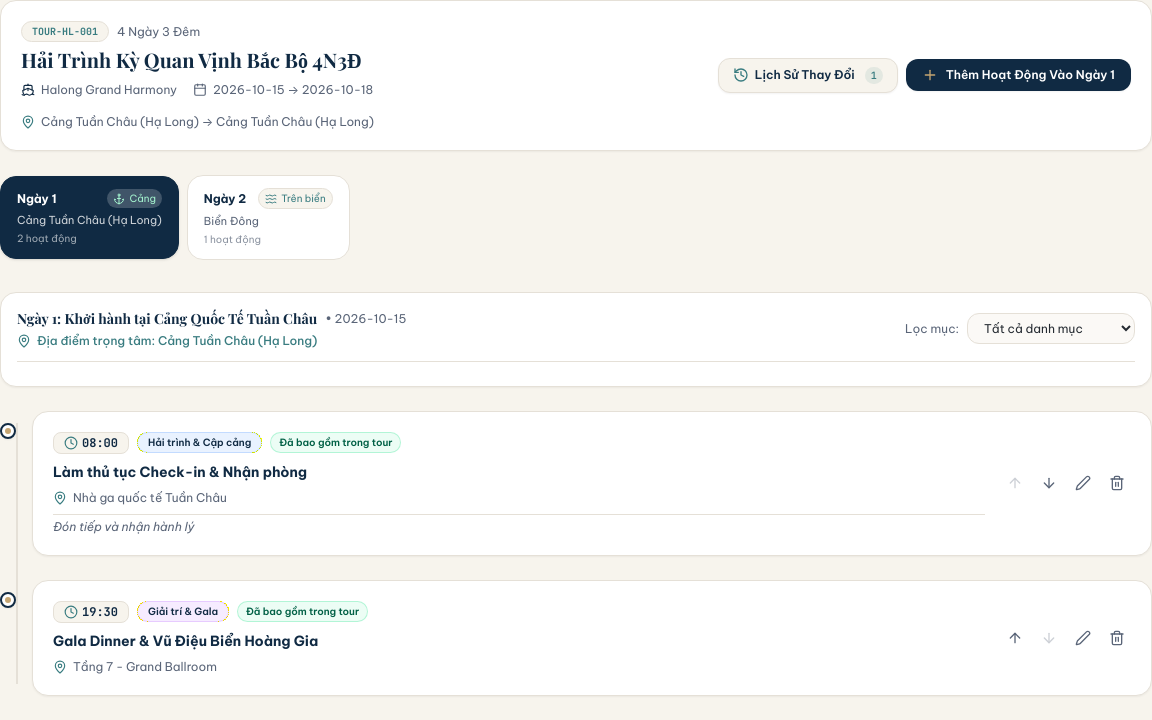
Test: DailyItineraryTimeline (KAN-119) › opens and closes itinerary change history modal (KAN-130)
Check: the text "Lịch Sử Thay Đổi Lịch Trình" is not shown
Note: Click button to open modal
Click the button with aria-label "Xem lịch sử thay đổi lịch trình" at [808, 75], box [718,58,898,93]
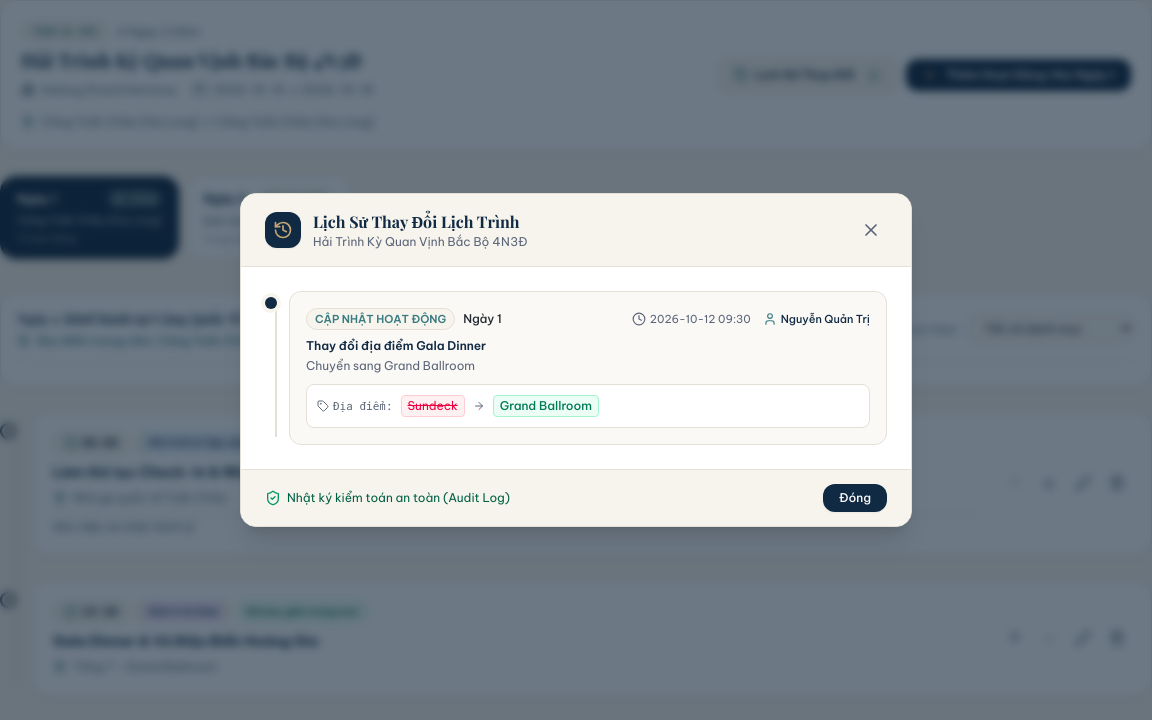
Check: the heading "Lịch Sử Thay Đổi Lịch Trình" is shown, box [313,210,528,234]
Check: the text "Nguyễn Quản Trị" is shown, box [763,311,870,327]
Check: the text "Thay đổi địa điểm Gala Dinner" is shown, box [306,338,486,353]
Note: Close modal via close button
Click the button named "Đóng lịch sử thay đổi" at [871, 230], box [855,214,887,246]
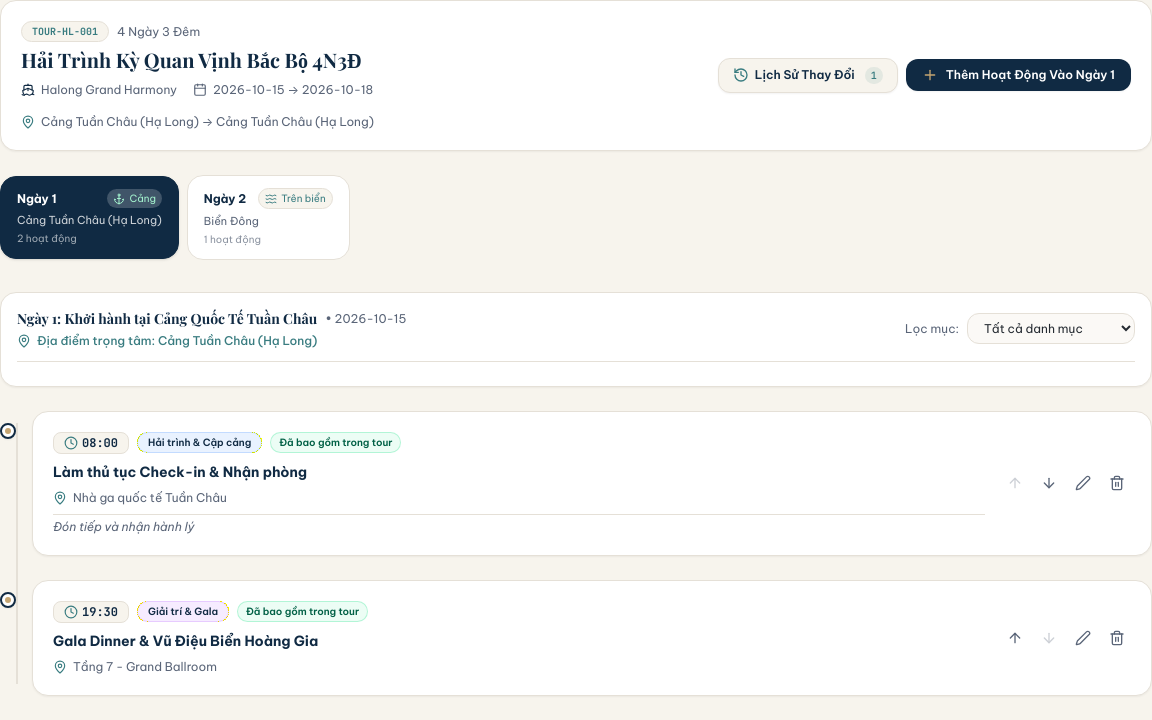
Check: the heading "Lịch Sử Thay Đổi Lịch Trình" is gone
